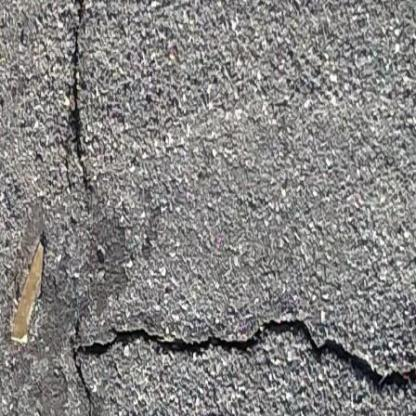Cracks: (44, 274, 416, 416), (25, 0, 121, 197)
